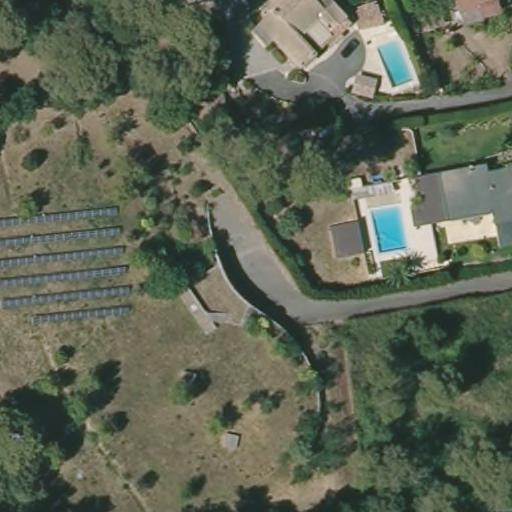pool: (372, 34, 414, 89), (371, 200, 411, 253)
